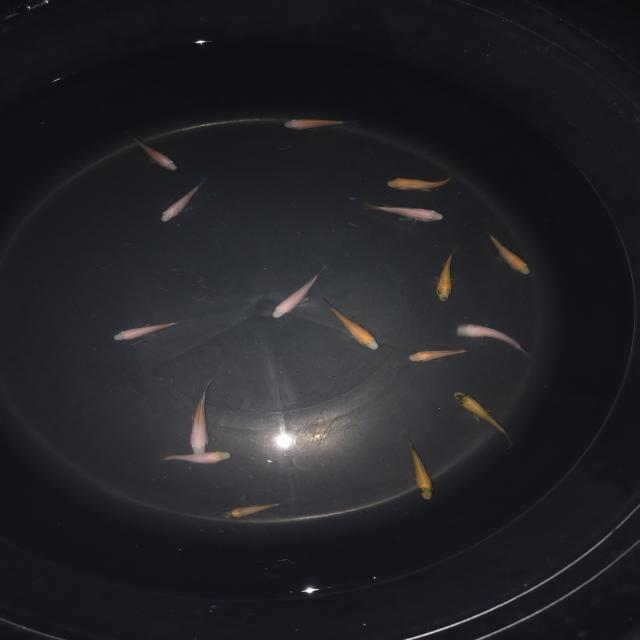nila: (450, 388, 516, 448), (319, 294, 386, 352), (268, 262, 328, 323), (453, 320, 532, 360), (399, 426, 436, 504), (484, 223, 536, 278), (157, 176, 210, 227), (125, 130, 187, 173), (182, 380, 216, 457), (107, 314, 191, 344), (362, 198, 452, 225), (385, 168, 463, 194), (216, 497, 290, 520), (155, 449, 236, 469), (434, 246, 460, 306), (276, 114, 358, 133), (404, 346, 476, 366)
